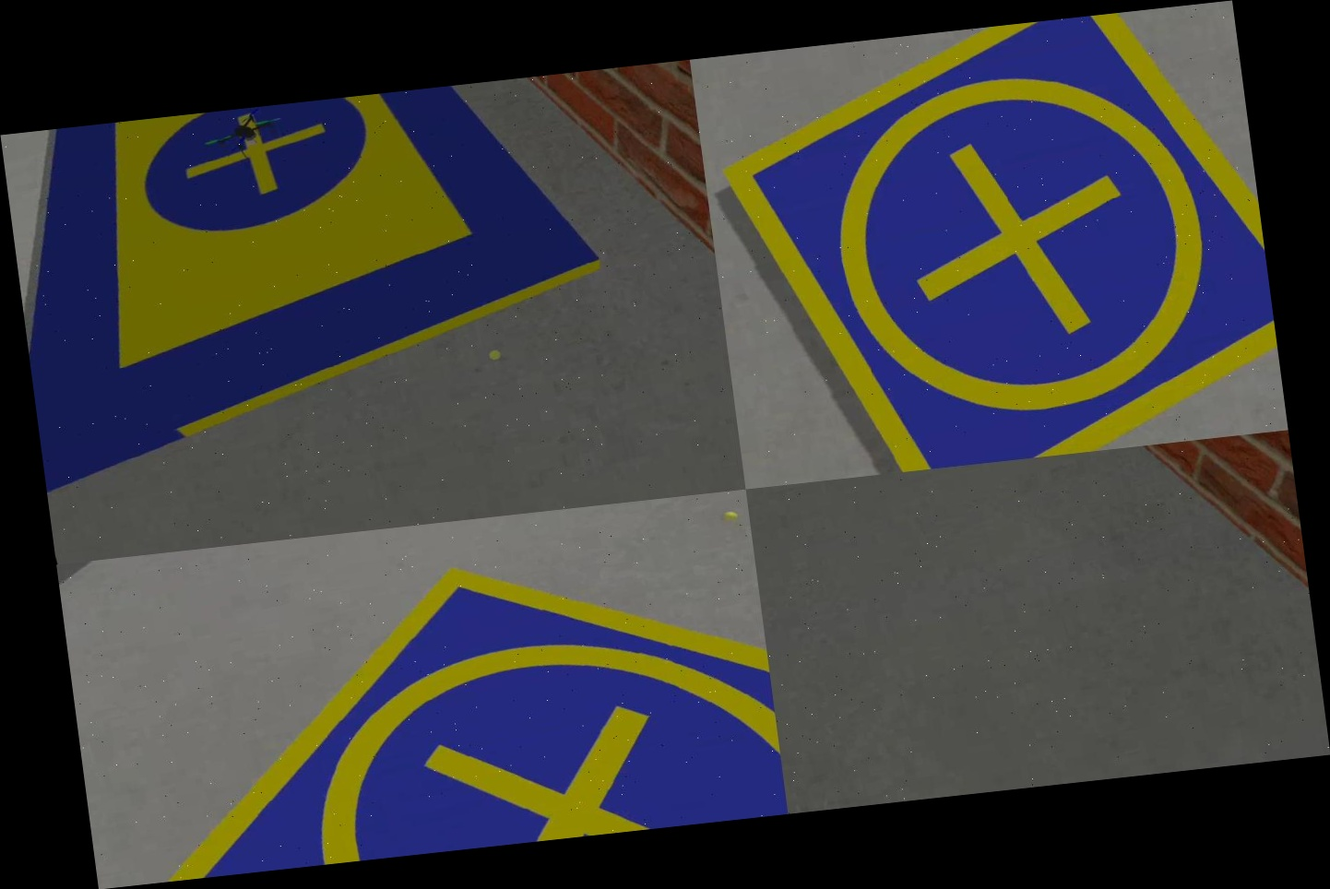large_base: (0, 70, 643, 491)
small_base: (56, 489, 788, 888), (691, 0, 1288, 489)
